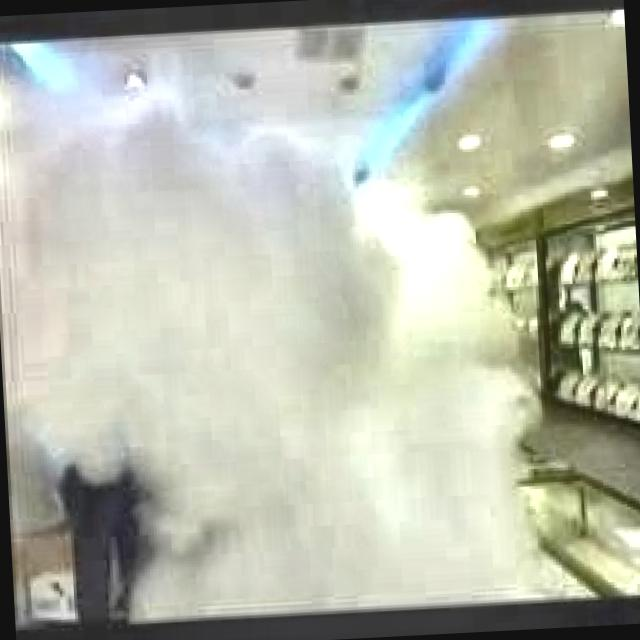smoke: (0, 29, 551, 640)
